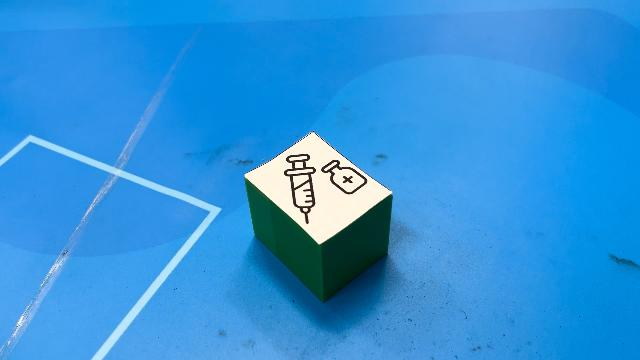syringe: (244, 130, 392, 302)
